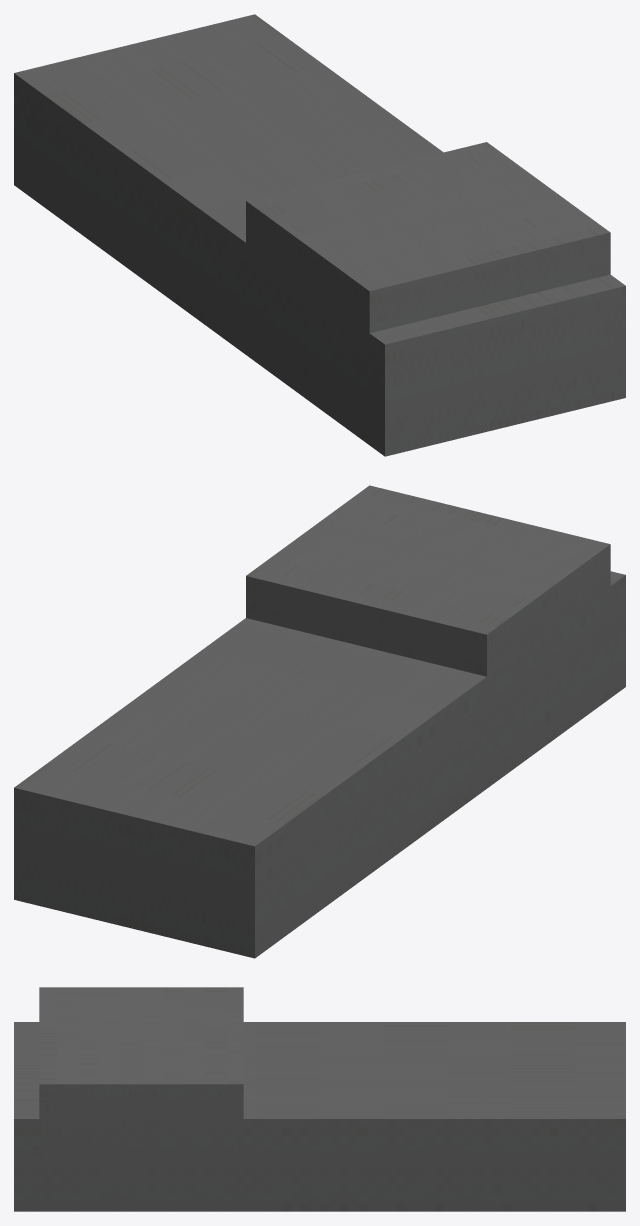
The model's file is prop_slipper-1.glb.
3 views of the same model, one above another, from view 1: azimuth 30°, elevation 25°; view 2: azimuth 150°, elevation 25°; view 3: azimuth 270°, elevation 25° (orthographic). The views are drawn at different scales.
Visible parts, largest first — view 1: prop_slipper-1; view 2: prop_slipper-1; view 3: prop_slipper-1.
Boxes of the visible parts, <box> form: prop_slipper-1: <box>14,14,625,456</box>; prop_slipper-1: <box>14,485,625,958</box>; prop_slipper-1: <box>14,987,625,1211</box>.
Size of the model in its own units: 0.09 by 0.055 by 0.24.
1 material, 1 textured.
